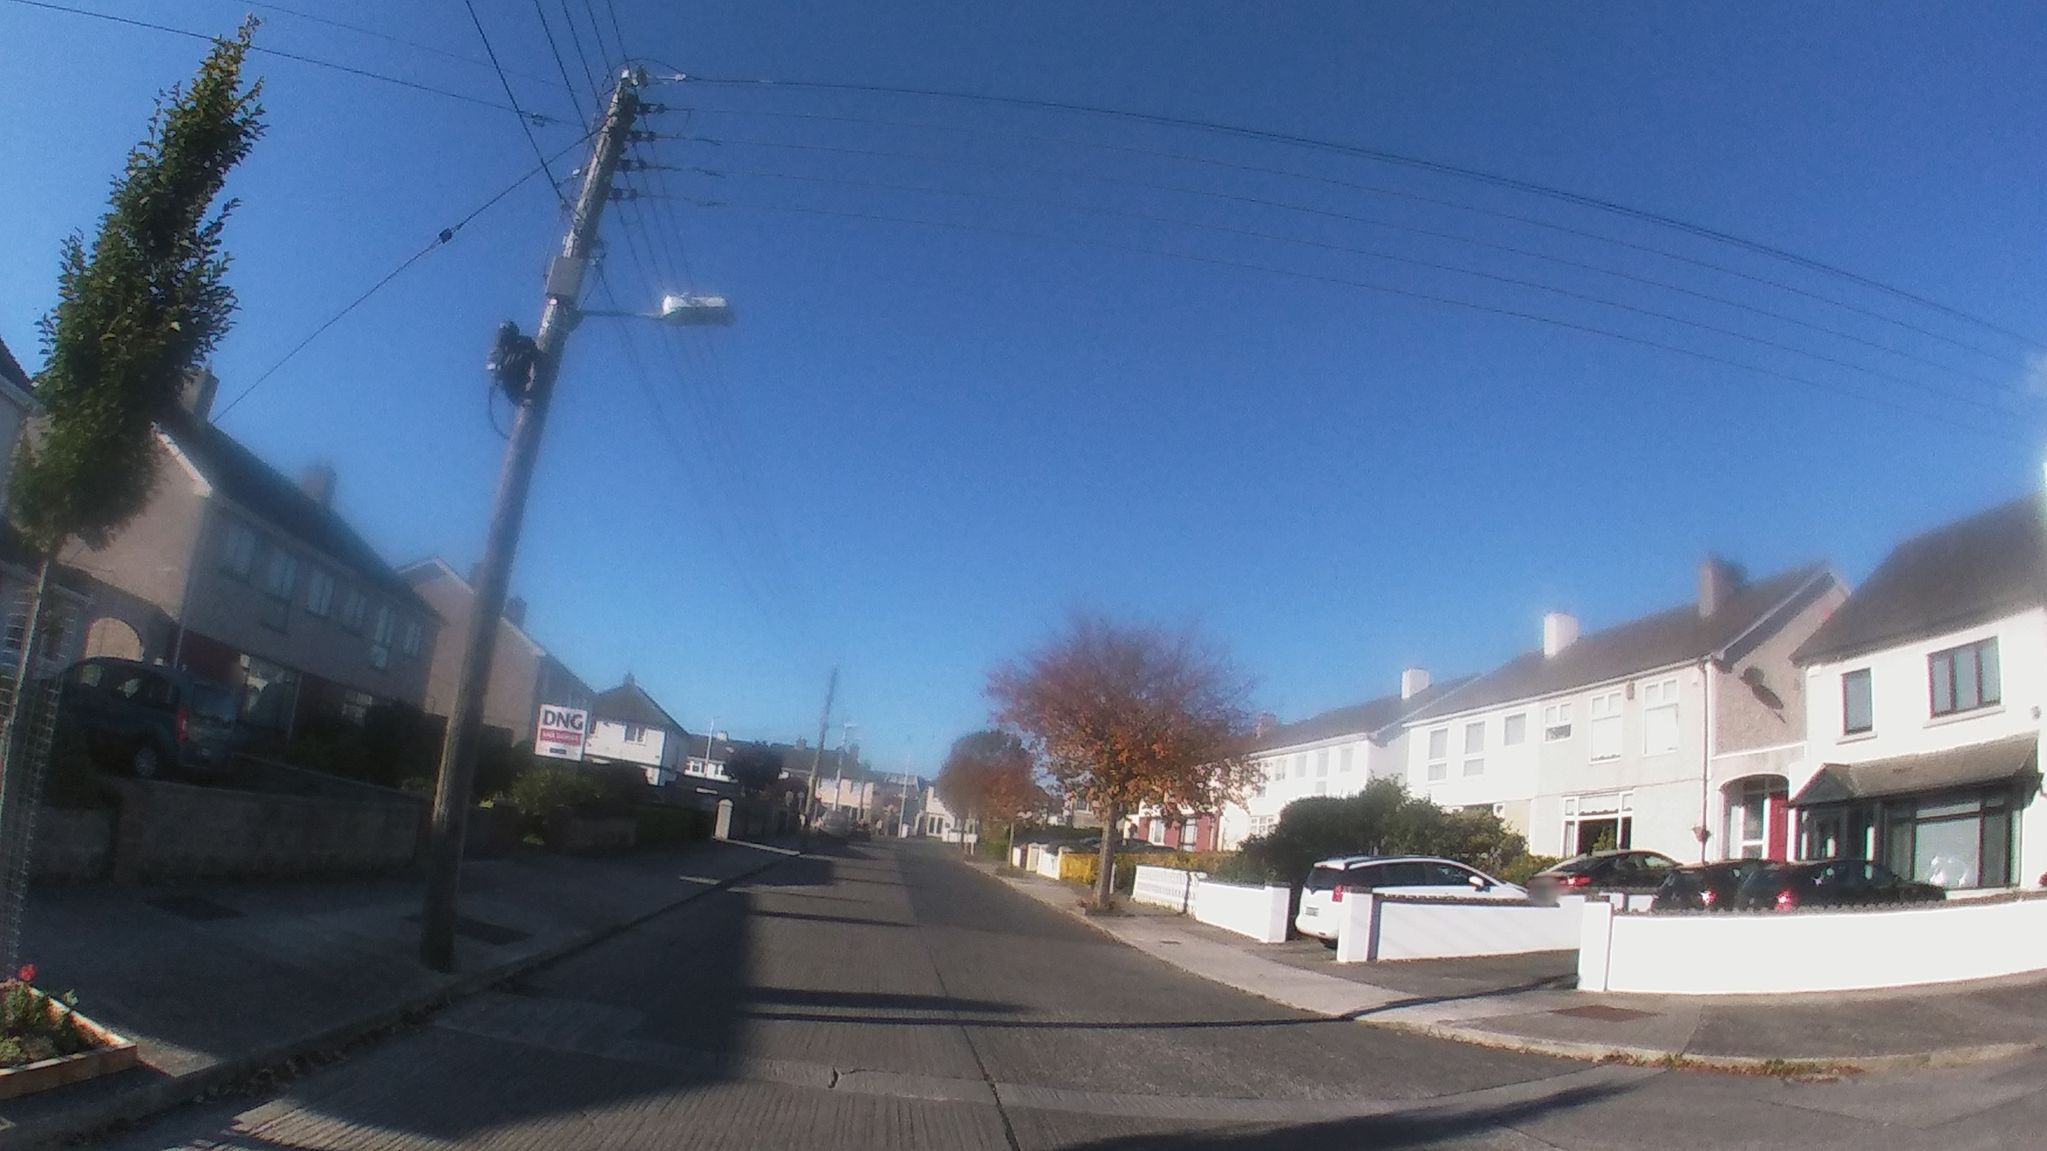property sign: (523, 689, 598, 763)
